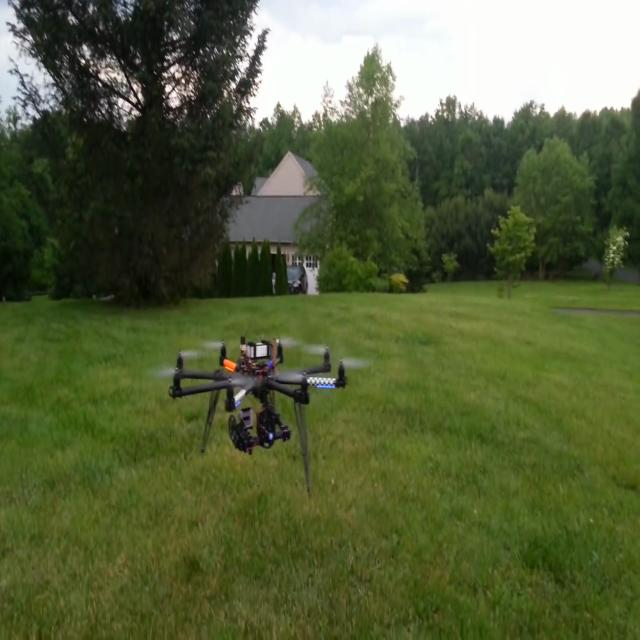drone: (153, 300, 360, 494)
